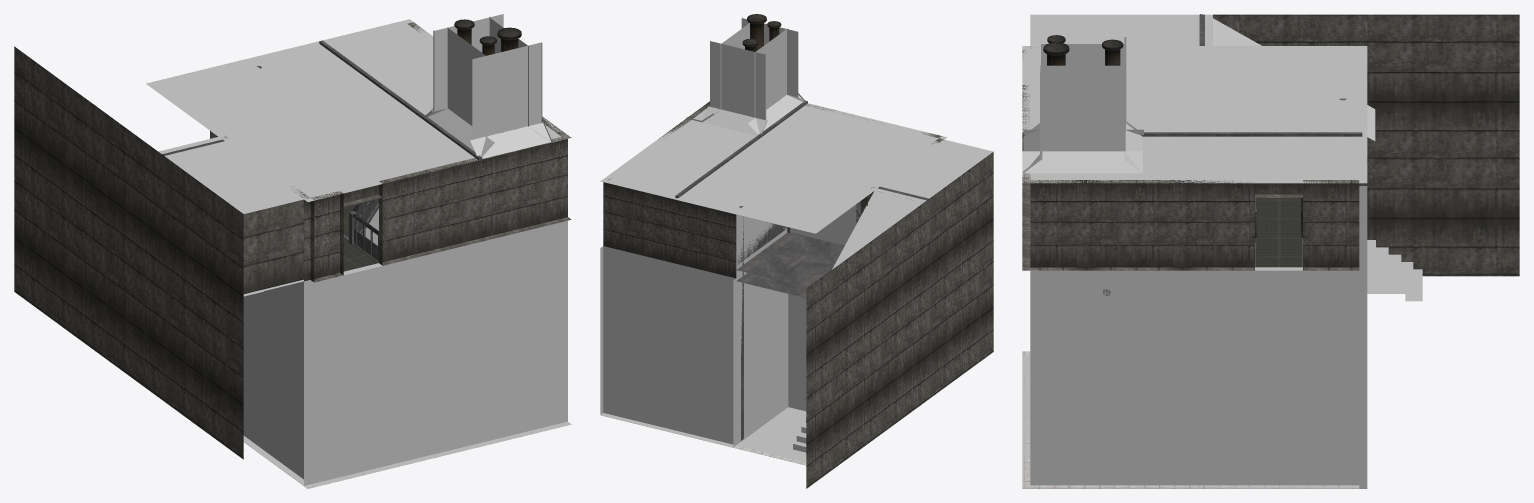
Rendered from HC_room2C_pit.obj.
The picture shows the model from 3 angles, left to right: view 1: azimuth 30°, elevation 25°; view 2: azimuth 150°, elevation 25°; view 3: azimuth 270°, elevation 25°; orthographic projection. The views are drawn at different scales.
Parts seen in each view (by area): view 1: room2cpit_opt; view 2: room2cpit_opt; view 3: room2cpit_opt.
Part boxes in pixels (x1,y1,x2,y2): room2cpit_opt: (14,14,571,488); room2cpit_opt: (600,14,993,488); room2cpit_opt: (1022,14,1519,488).
Size of the model in its own units: 15.92 by 18.36 by 19.84.
